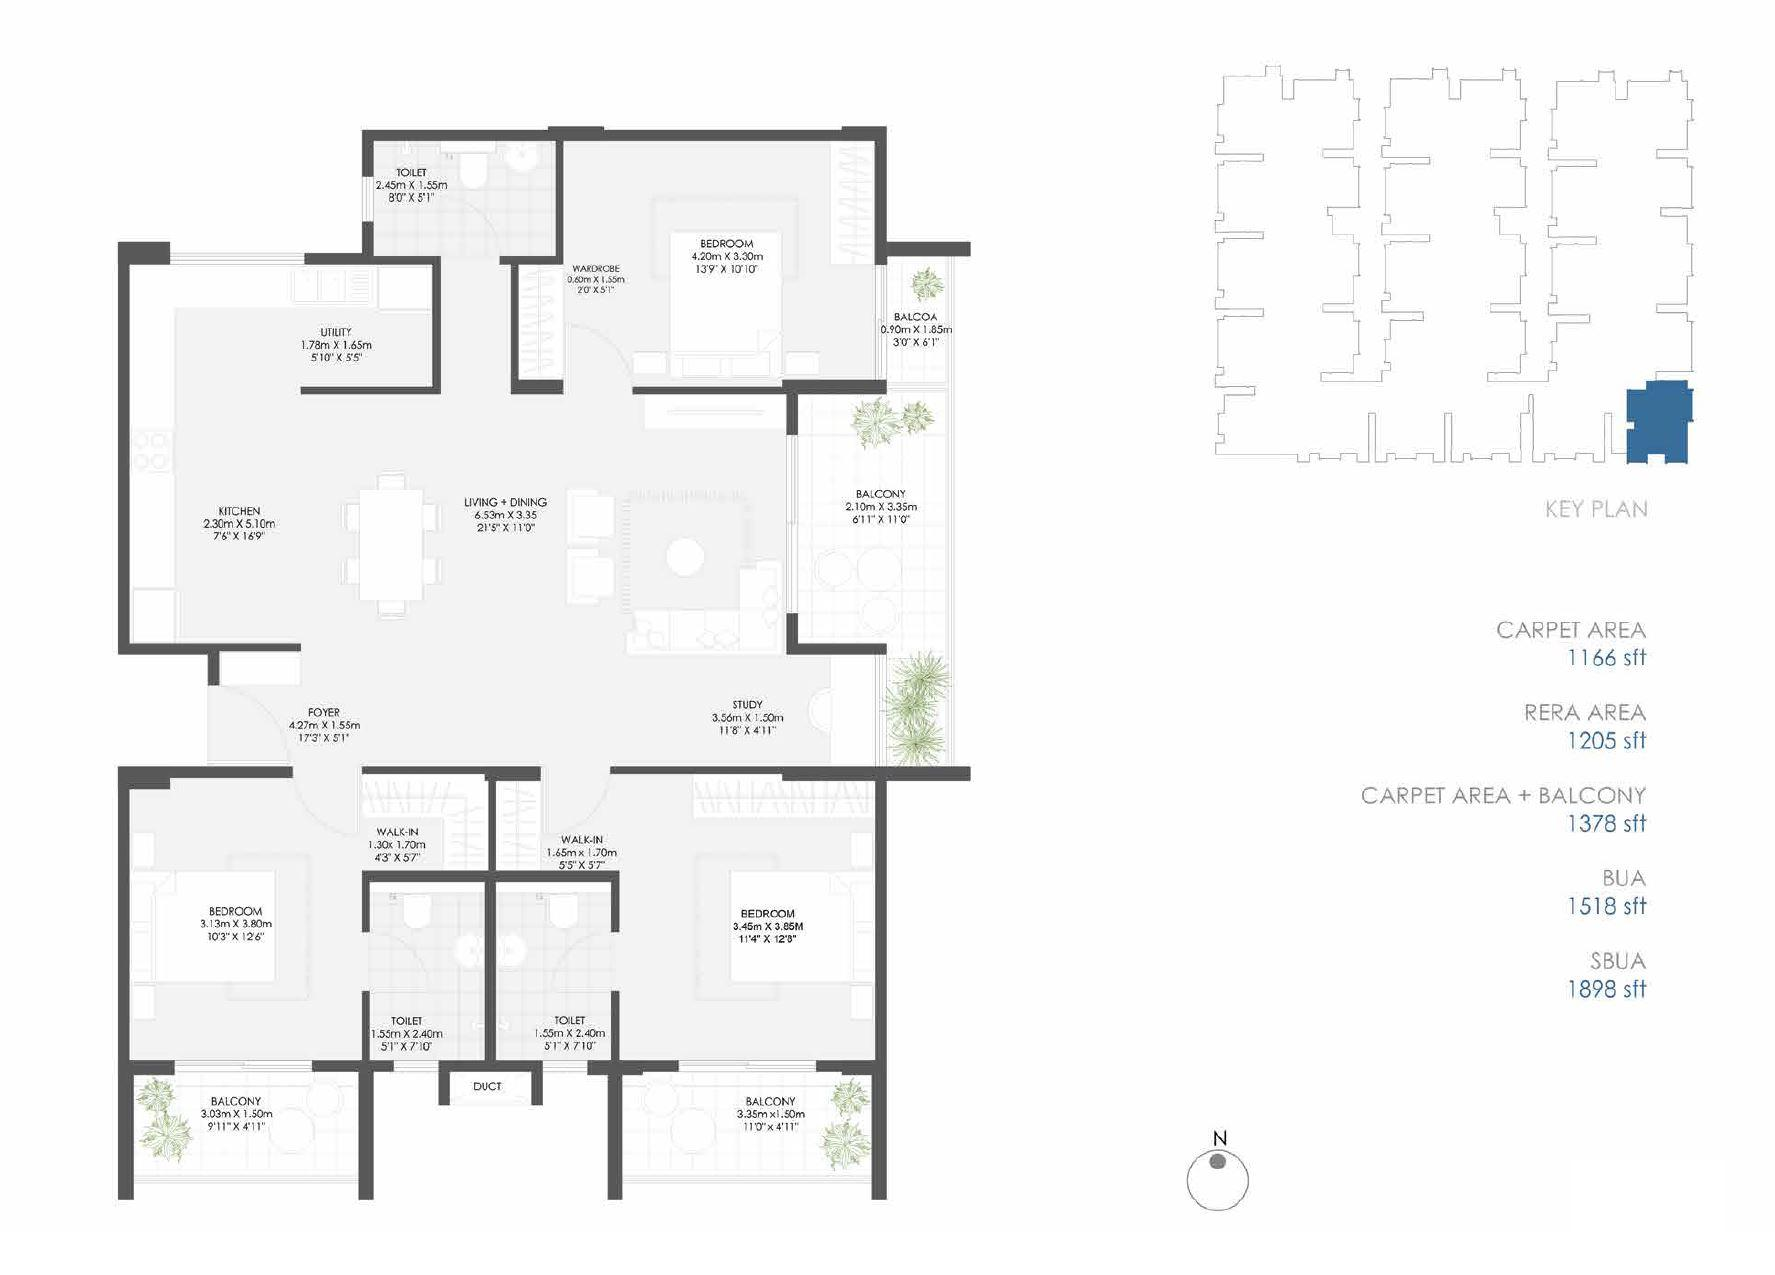Balcony: (798, 394, 954, 648), (624, 1075, 878, 1177), (130, 1077, 362, 1179), (878, 651, 956, 766)
Bed: (673, 234, 781, 386), (730, 870, 874, 984), (127, 870, 273, 981)
Bedroom: (566, 141, 870, 385), (624, 775, 872, 1063), (127, 776, 360, 1063)
Dining Room: (324, 398, 509, 644)
Dining table: (327, 469, 453, 630)
Foyer: (209, 657, 624, 765)
Kitchen: (127, 256, 334, 644)
Living Room: (496, 394, 781, 655)
Sofa: (627, 609, 779, 655), (735, 557, 788, 653), (562, 549, 617, 606), (561, 485, 612, 542)
Wardrobe: (695, 775, 874, 817), (517, 261, 565, 382), (830, 142, 875, 262), (362, 776, 488, 819), (438, 772, 489, 870), (491, 783, 540, 867), (223, 653, 298, 685)
balcoa: (881, 255, 950, 385)
commode: (547, 893, 582, 926), (459, 149, 486, 189), (404, 892, 431, 928)
door: (208, 684, 288, 761), (294, 768, 364, 844), (571, 318, 638, 396), (780, 430, 806, 620), (360, 929, 434, 992), (543, 771, 615, 835), (550, 936, 620, 995), (674, 1054, 823, 1081), (438, 197, 502, 256), (167, 1057, 317, 1078)
duct: (445, 1074, 532, 1110)
fridge: (130, 587, 181, 644)
kitchen-slab: (130, 267, 178, 586), (131, 266, 378, 310)
sink: (287, 265, 373, 312), (452, 928, 481, 965), (504, 146, 542, 174), (502, 932, 528, 969)
study: (606, 655, 872, 765)
toilet: (499, 879, 615, 1061), (373, 143, 555, 255), (369, 884, 482, 1063)
tv: (652, 398, 773, 426)
utility: (281, 259, 434, 386)
washing-machine: (376, 265, 434, 316)
